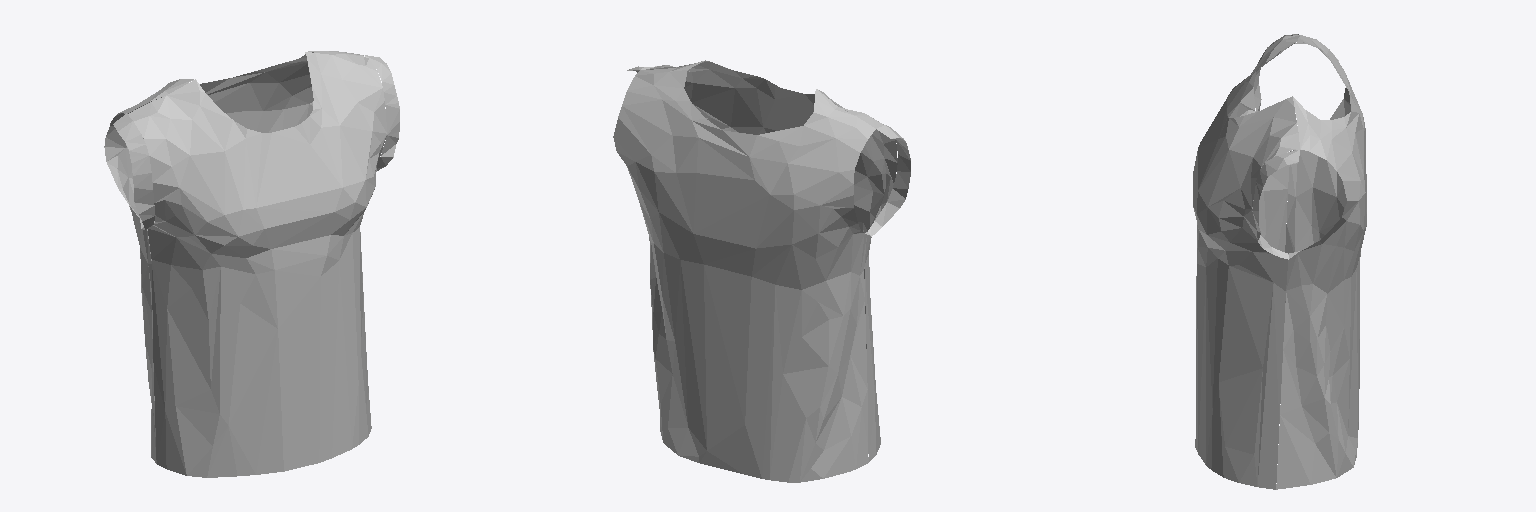
3 renders of one model, left to right at view 1: azimuth 30°, elevation 25°; view 2: azimuth 150°, elevation 25°; view 3: azimuth 270°, elevation 25°, orthographic.
Visible parts, largest first — view 1: T_shirt; view 2: T_shirt; view 3: T_shirt.
Part boxes in pixels (x1,y1,x2,y2): T_shirt: (104,51,399,477); T_shirt: (613,60,910,482); T_shirt: (1193,34,1366,489).
Bounding box in the file's own units: 0.2935 × 0.3892 × 0.1639.